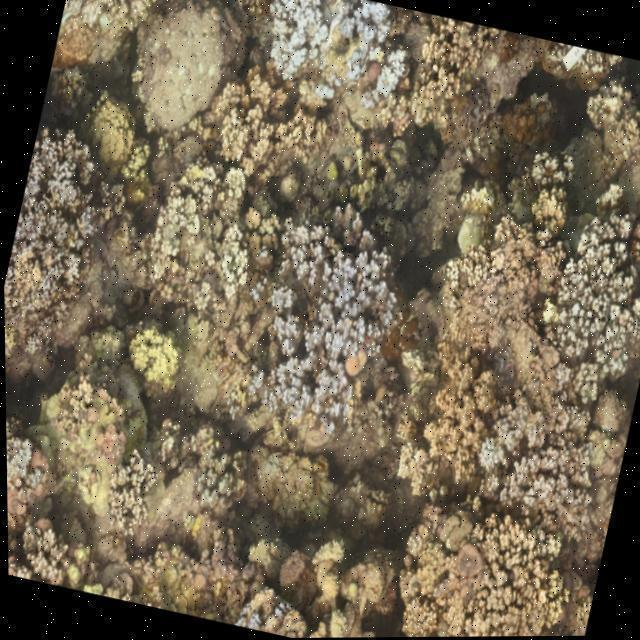Bleached Coral: (261, 223, 388, 438), (262, 0, 409, 115)
